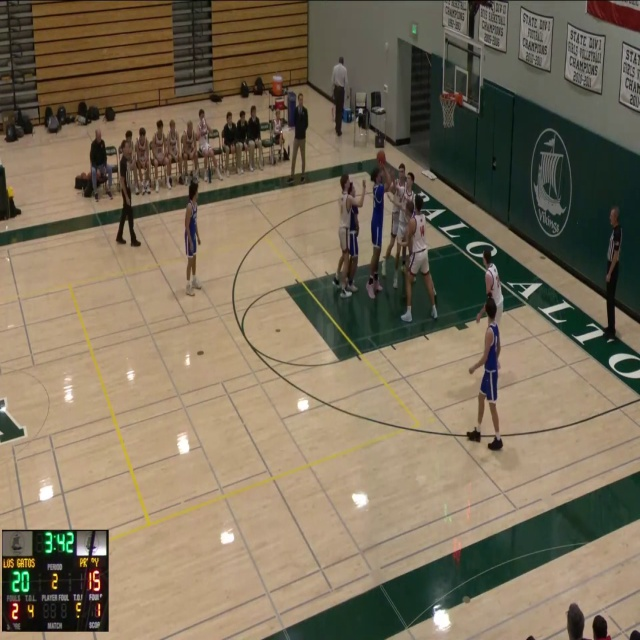Basketball: (376, 150, 385, 163)
